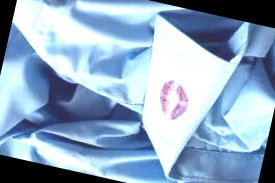lipstick: (151, 69, 197, 127)
